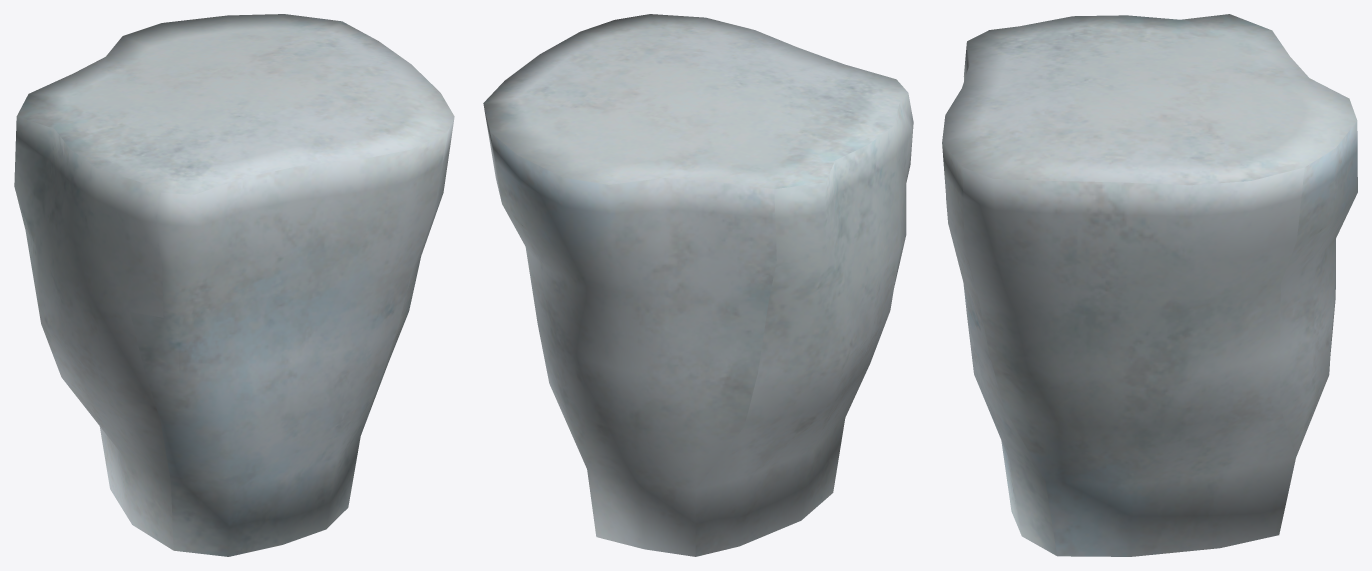
File: P_RockDesert_Shelf07.obj
3 views of the same model, side by side, from view 1: azimuth 30°, elevation 25°; view 2: azimuth 150°, elevation 25°; view 3: azimuth 270°, elevation 25° (orthographic). The views are drawn at different scales.
Bounding box in the file's own units: 22.18 × 24.75 × 21.77.
